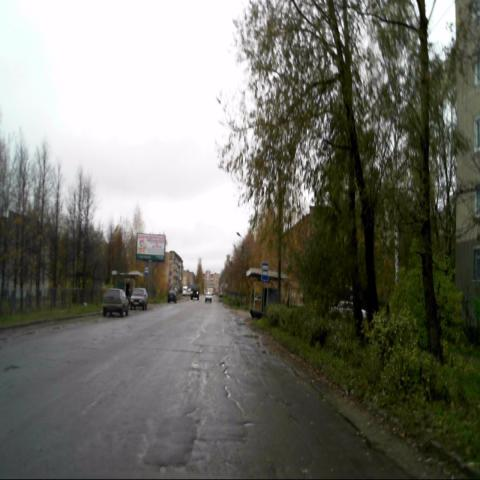5_16: (261, 262, 268, 281)
